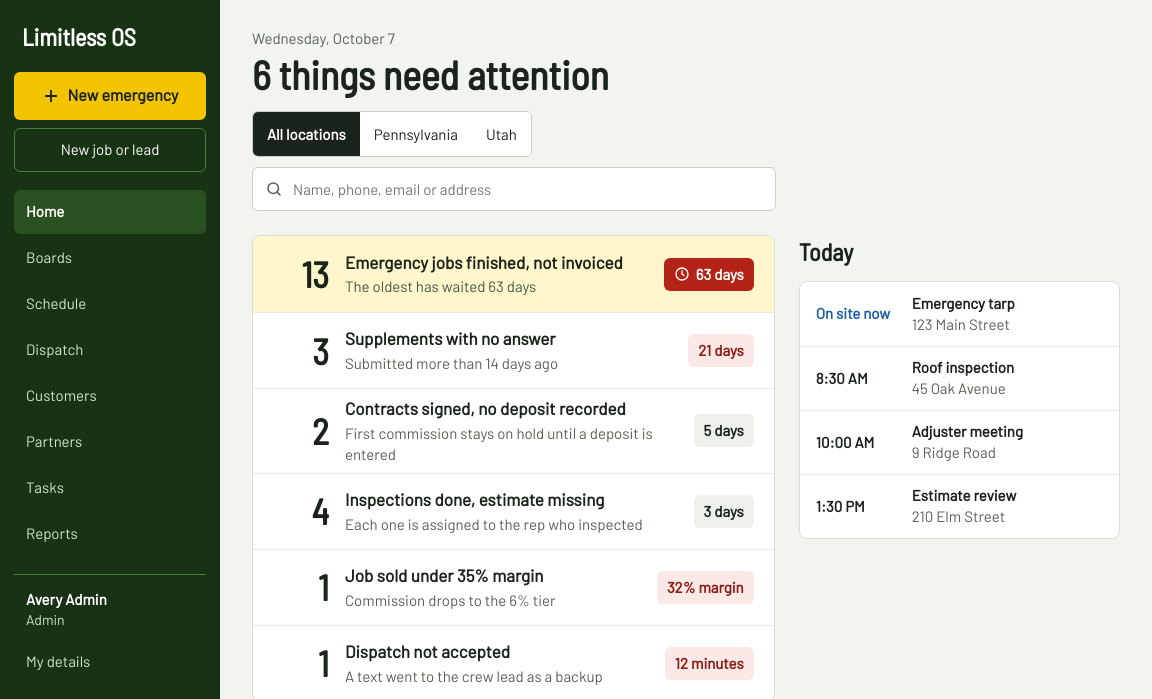
Test: Office home › filters by location and remembers the choice
Click the button "Utah".
click(501, 134)  # box [472,112,531,156]
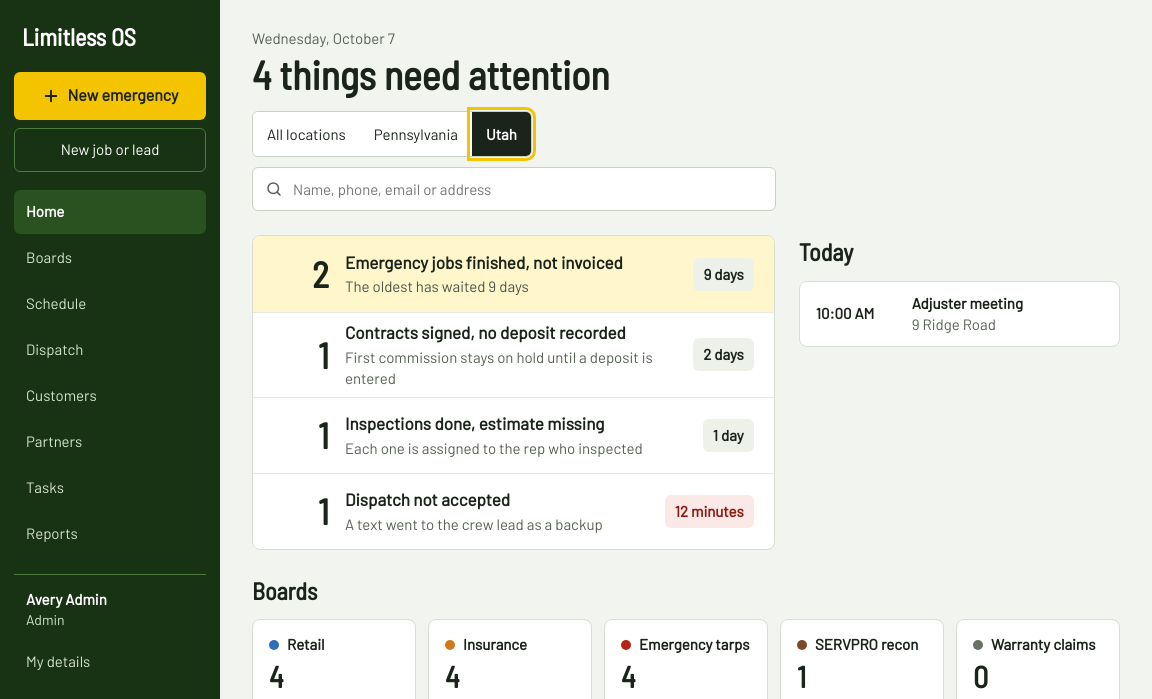
Expected: the heading "4 things need attention" is shown, [252,53,610,95]
Click the button "Pennsylvania".
click(416, 134)  # box [360,112,472,156]
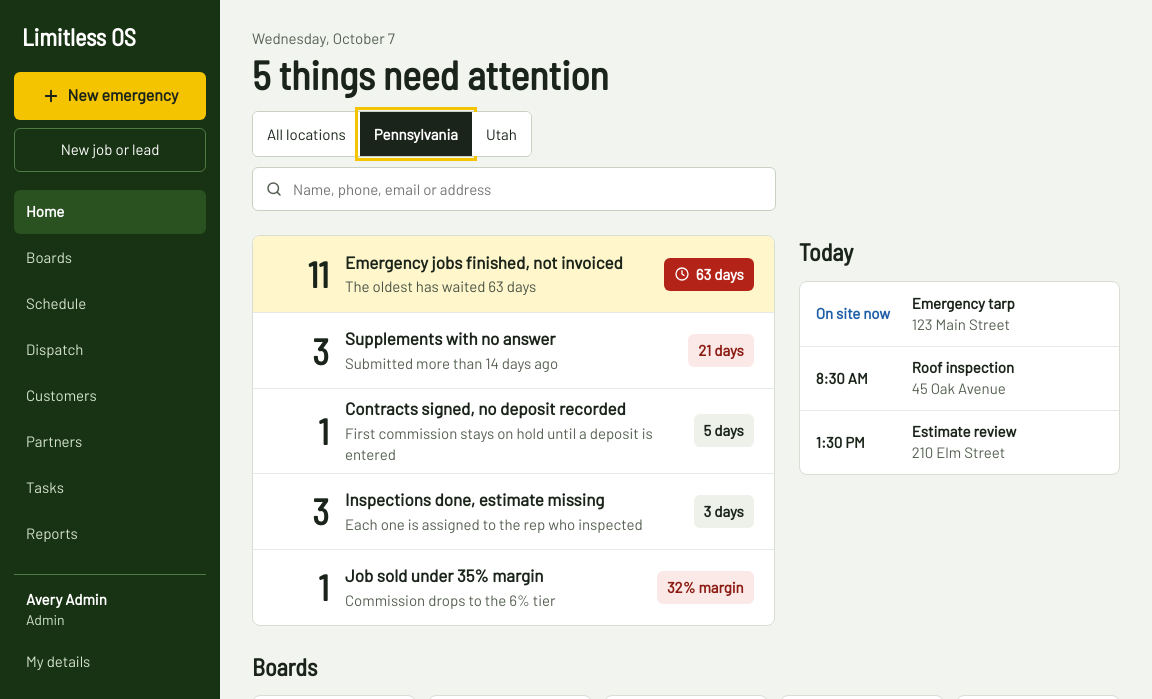
Expected: the heading "5 things need attention" is shown, [252,53,609,95]
